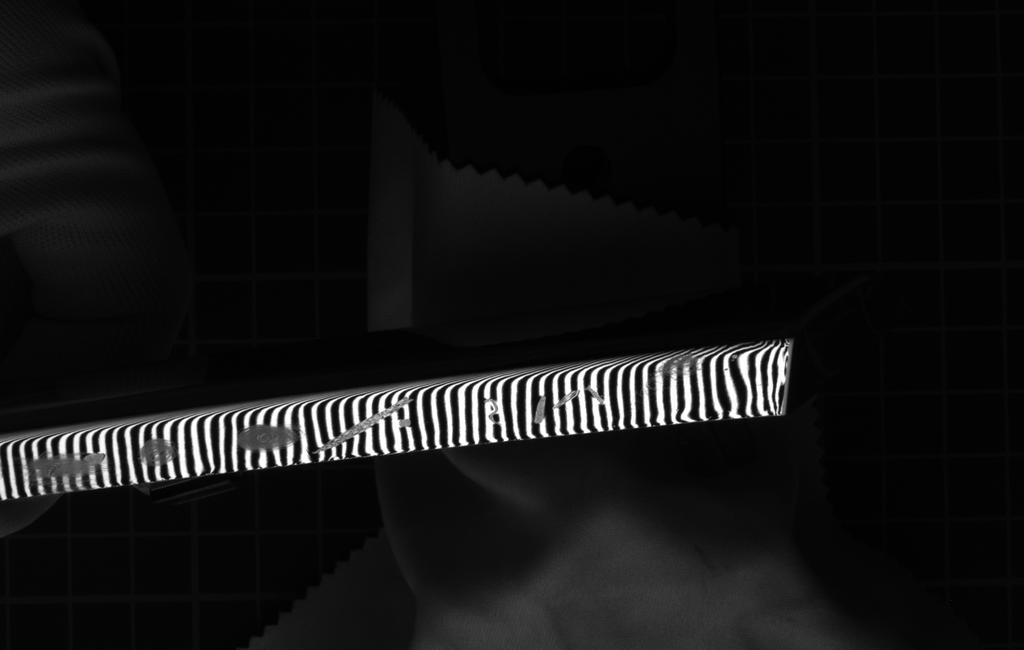Pierced: (397, 416, 420, 430)
Pitting: (19, 447, 117, 490), (236, 418, 294, 458), (653, 350, 711, 388), (139, 434, 181, 479)
Scratch: (312, 403, 402, 455), (479, 391, 511, 430), (587, 384, 614, 411), (553, 387, 580, 413), (534, 389, 548, 430)
